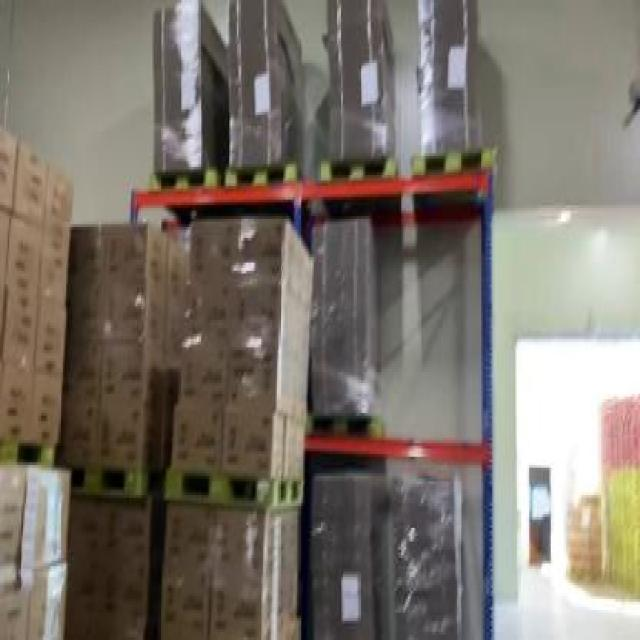box: (171, 211, 309, 514), (52, 219, 160, 484), (155, 468, 300, 637), (3, 120, 69, 470), (402, 2, 492, 170), (314, 3, 401, 175), (223, 0, 300, 181), (146, 3, 222, 186), (386, 470, 463, 638), (311, 465, 383, 637), (562, 492, 609, 588)
